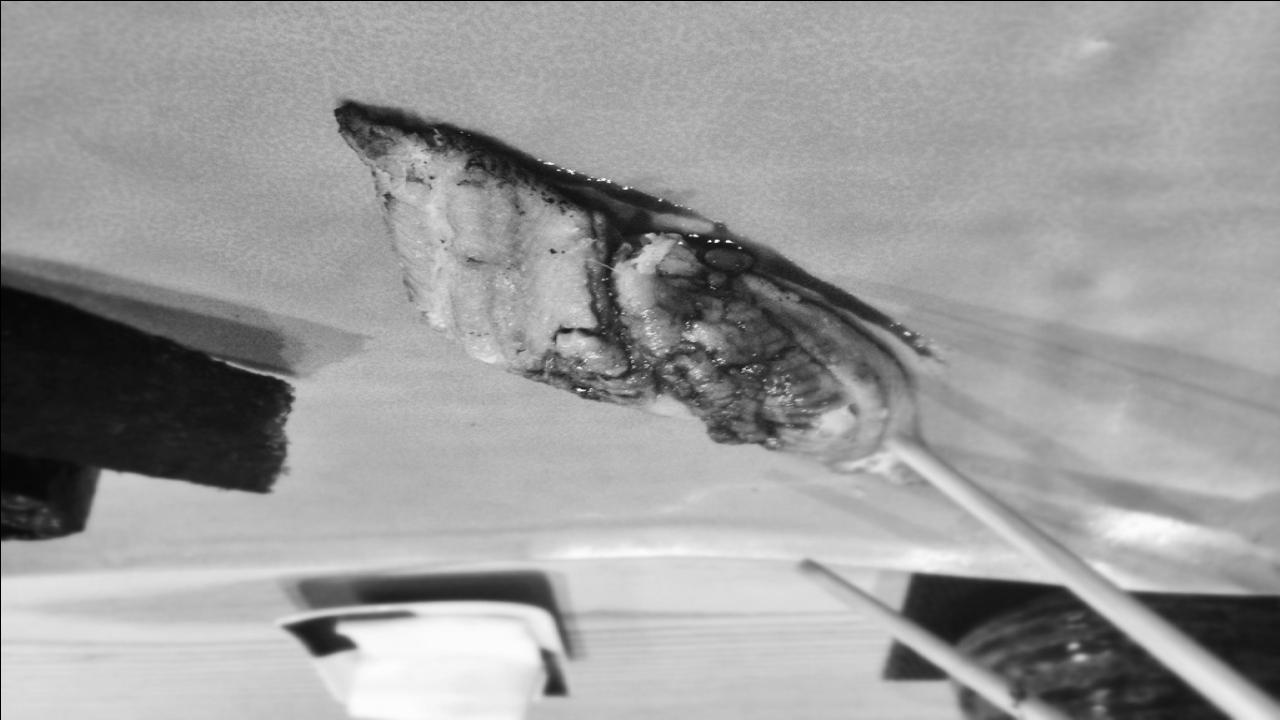chopstick: (794, 425, 1280, 720)
